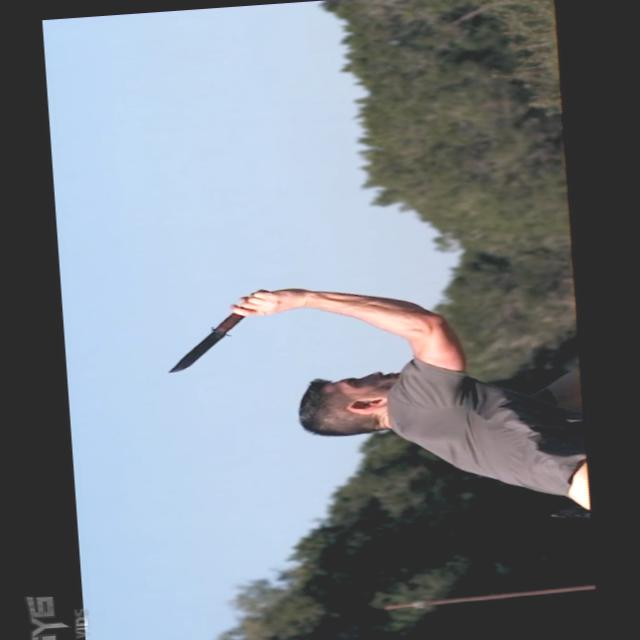knife: (148, 284, 286, 378)
